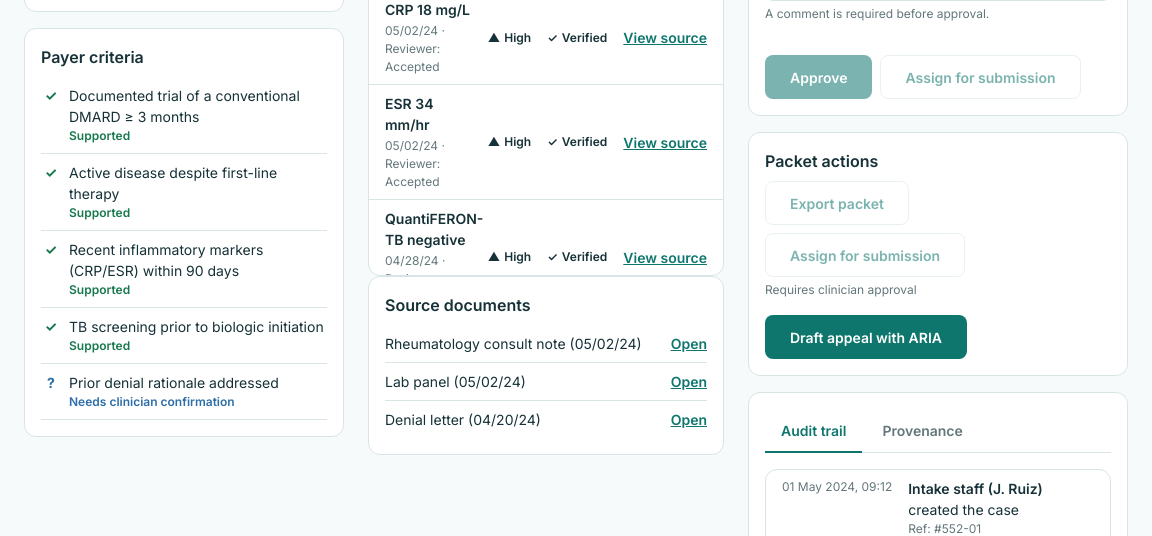
CaseWorkspace ARIA drafting is appeals-only › drafting renders AriaPanel with the human-review banner and citations
The width and height of the screenshot is (1152, 536).
(page scrolled)
Click the button "Draft appeal with ARIA" at (866,337), box [765,315,967,359]
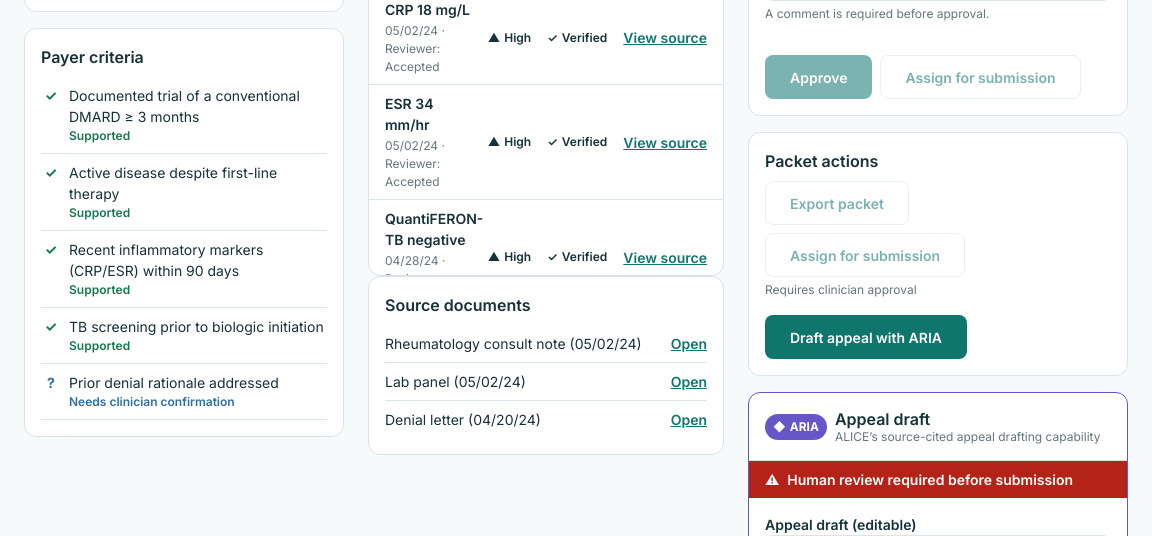
Now the message "⚠ Human review required before submission" is shown, box [749,461,1127,498]
